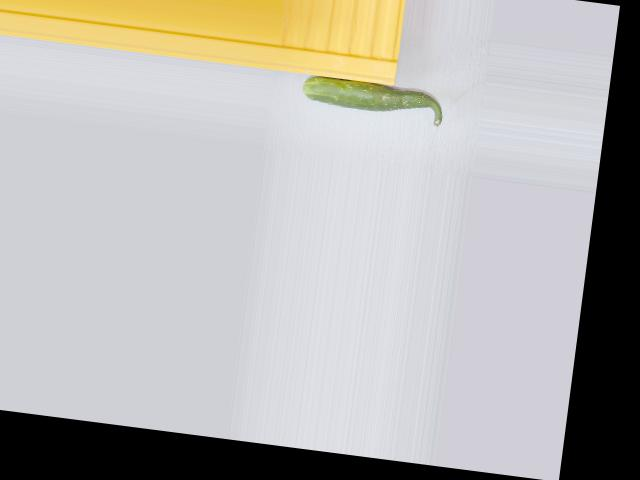cucumber: (301, 73, 446, 127)
